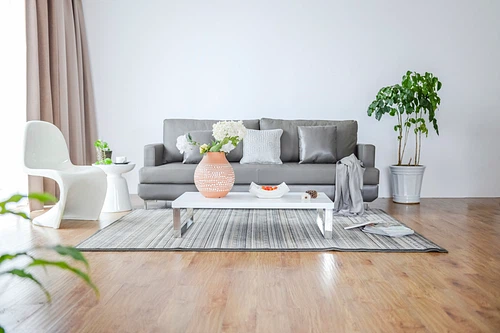chair: (18, 117, 108, 230)
flower vase: (174, 118, 244, 198)
large plant: (366, 67, 441, 205)
side table: (90, 162, 138, 214)
small plant: (96, 137, 113, 162)
sofa: (137, 116, 380, 211)
table: (170, 192, 335, 241)
